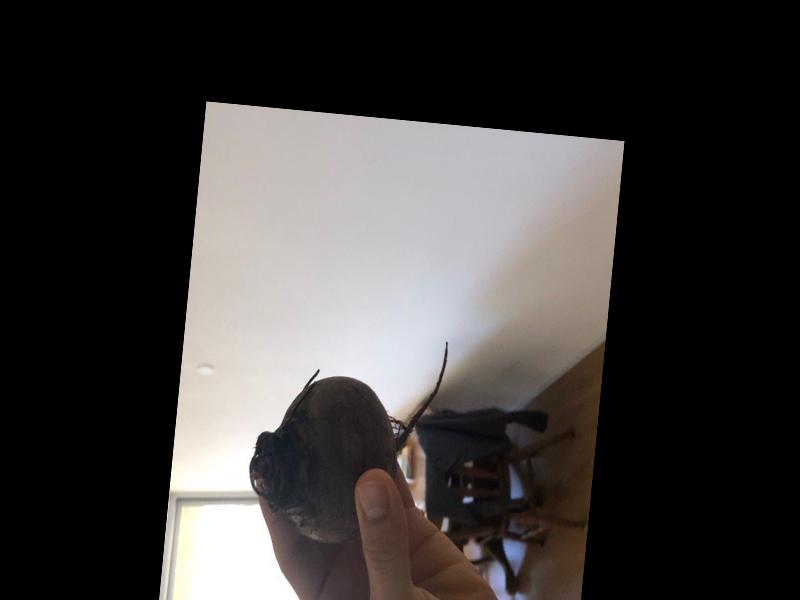Beet: (243, 324, 448, 551)
